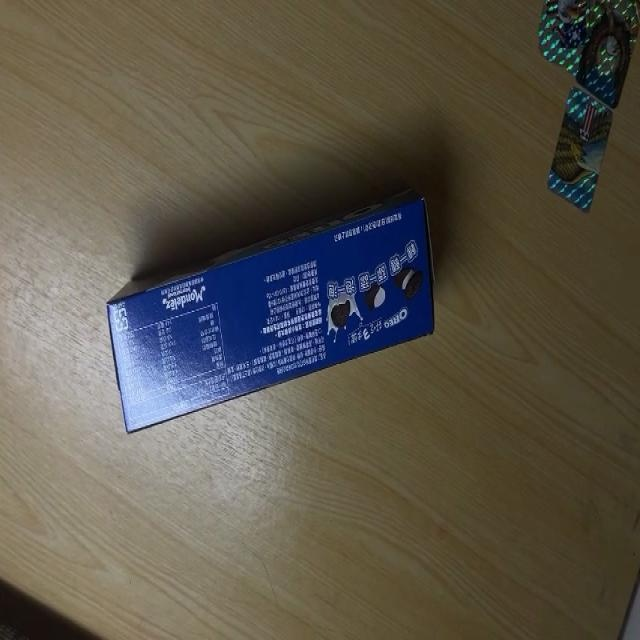Oreo: (104, 197, 435, 437)
